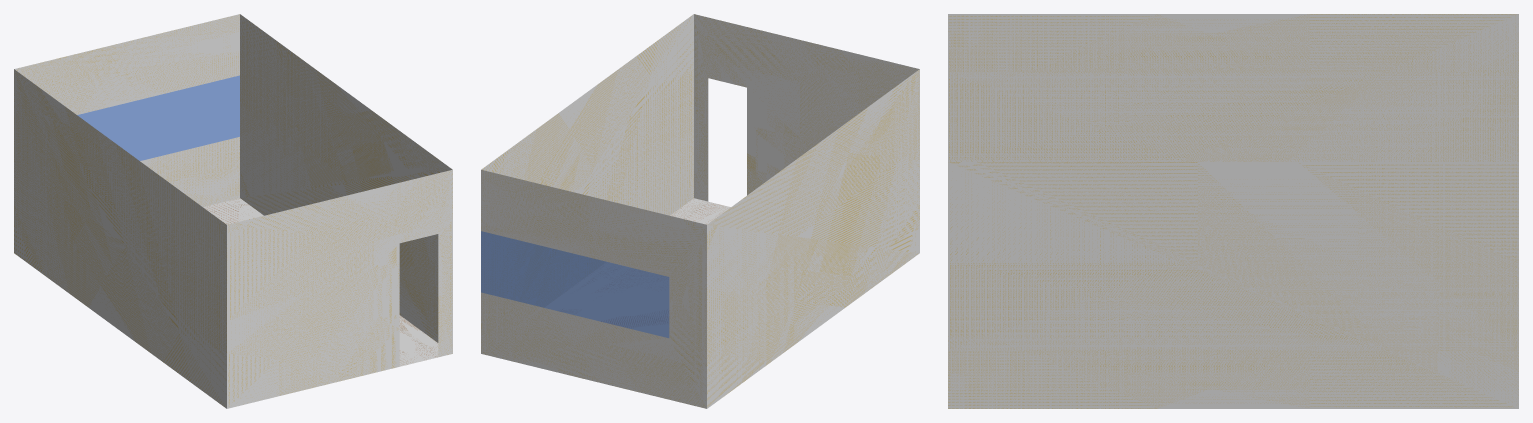
File: LAB014.obj
The picture shows the model from 3 angles, left to right: view 1: azimuth 30°, elevation 25°; view 2: azimuth 150°, elevation 25°; view 3: azimuth 270°, elevation 25°; orthographic projection. The views are drawn at different scales.
Parts seen in each view (by area): view 1: Mesh1 LAB014 Model; view 2: Mesh1 LAB014 Model; view 3: Mesh1 LAB014 Model.
Boxes of the visible parts, x1,y1,x2,y2 form: Mesh1 LAB014 Model: [14, 14, 452, 408]; Mesh1 LAB014 Model: [481, 14, 919, 408]; Mesh1 LAB014 Model: [948, 14, 1518, 408].
Bounding box in the file's own units: 3.85 × 2.99 × 6.27.
5 materials, 1 textured.
